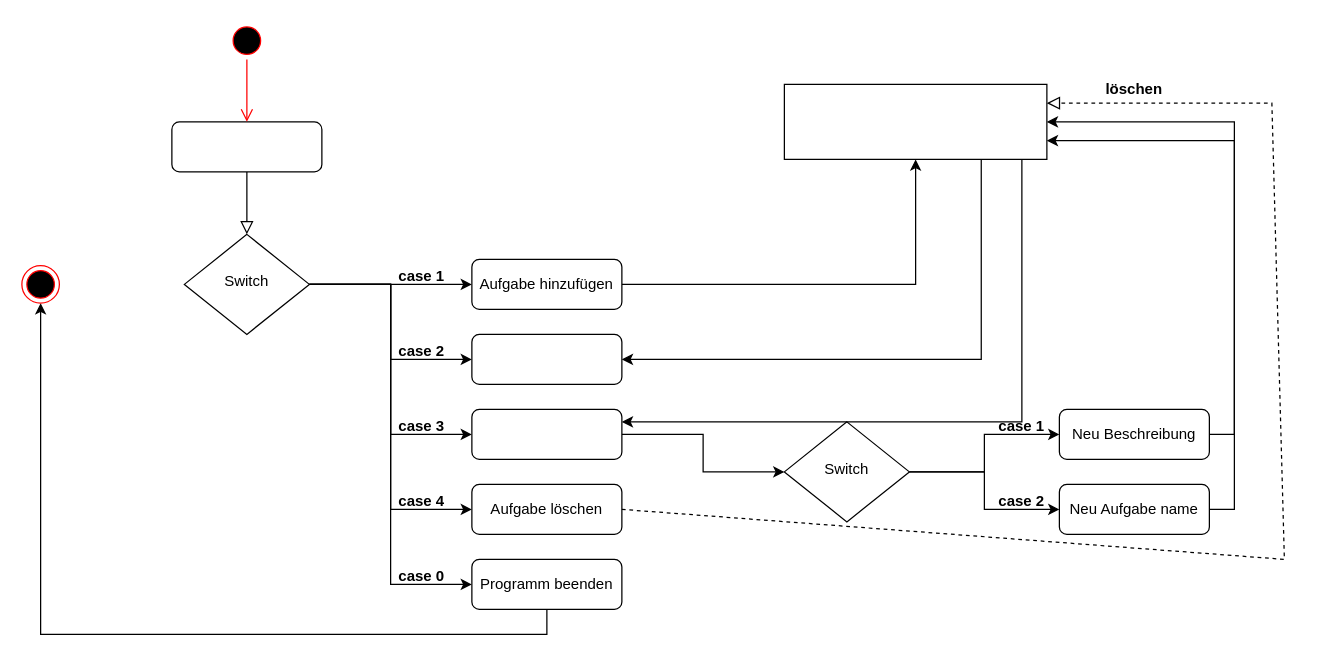
Some shapes in this 1319 by 666 pixel diagram are drawn without their labels. Here are the shapes that lost their labels. From the top down, the centre of each, then its label:
At pixel 915 121: "<<List>> List<string Task, string Description".
At pixel 246 146: "Applikation menu".
At pixel 546 358: "Aufgabenliste anzeigen".
At pixel 546 433: "Aufgabe bearbeiten".
